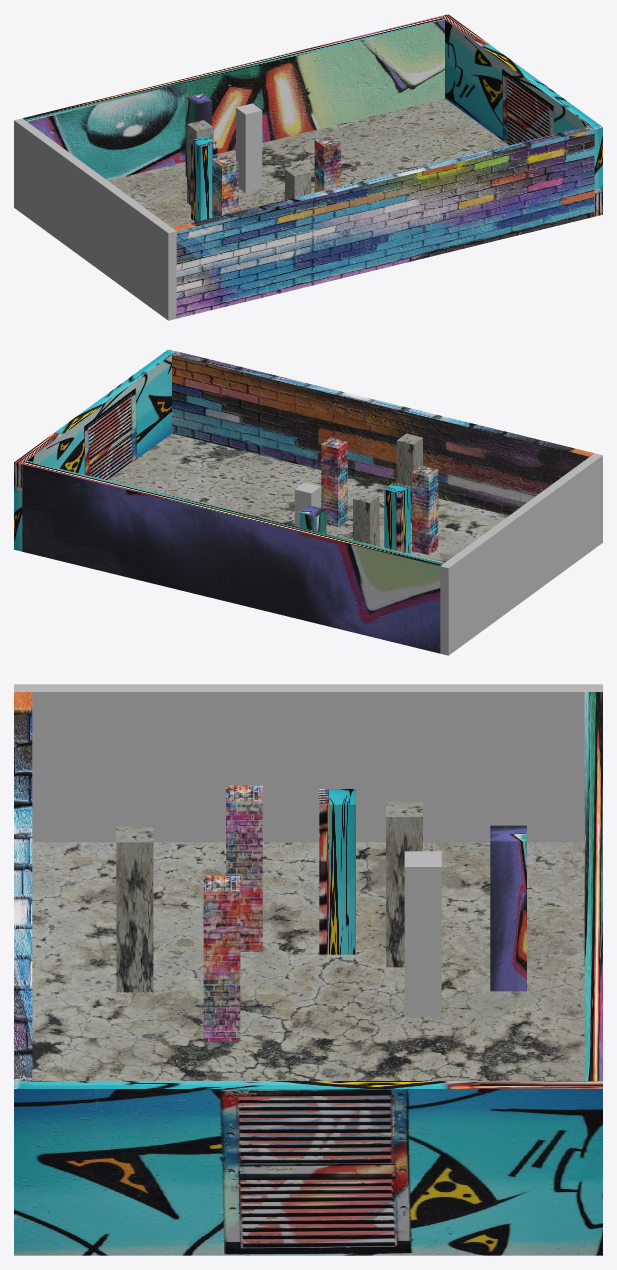
The model's file is arena_v3.dae.
The picture shows the model from 3 angles, top to bottom: view 1: azimuth 30°, elevation 25°; view 2: azimuth 150°, elevation 25°; view 3: azimuth 270°, elevation 25°; orthographic projection. The views are drawn at different scales.
Parts seen in each view (by area): view 1: Cube.002, Cube.001, Cube.004, Cube, Cube.003, Cube.011, Cube.005, Cube.006, Cube.007, Cube.009, Cube.008, Cube.010; view 2: Cube.001, Cube.002, Cube.004, Cube, Cube.003, Cube.006, Cube.007, Cube.005, Cube.010, Cube.008, Cube.011, Cube.009; view 3: Cube.003, Cube, Cube.004, Cube.002, Cube.001, Cube.008, Cube.007, Cube.011, Cube.009, Cube.005, Cube.006, Cube.010.
Boxes of the visible parts, x1,y1,x2,y2 form: Cube.002: [172, 126, 594, 318]; Cube.001: [22, 16, 444, 180]; Cube.004: [14, 118, 176, 320]; Cube: [108, 98, 508, 227]; Cube.003: [440, 14, 602, 216]; Cube.011: [236, 103, 262, 192]; Cube.005: [191, 136, 217, 221]; Cube.006: [212, 155, 238, 217]; Cube.007: [314, 135, 340, 192]; Cube.009: [185, 93, 211, 176]; Cube.008: [285, 165, 311, 199]; Cube.010: [187, 120, 213, 205]; Cube.001: [22, 461, 444, 653]; Cube.002: [172, 351, 594, 515]; Cube.004: [440, 453, 602, 655]; Cube: [108, 433, 508, 562]; Cube.003: [14, 349, 176, 551]; Cube.006: [412, 465, 438, 554]; Cube.007: [321, 437, 347, 526]; Cube.005: [384, 482, 410, 554]; Cube.010: [353, 492, 379, 546]; Cube.008: [396, 433, 422, 522]; Cube.011: [294, 482, 320, 527]; Cube.009: [300, 505, 326, 533]; Cube.003: [14, 1081, 602, 1255]; Cube: [32, 842, 584, 1080]; Cube.004: [14, 684, 602, 842]; Cube.002: [14, 692, 32, 1080]; Cube.001: [584, 692, 602, 1080]; Cube.008: [116, 826, 153, 992]; Cube.007: [203, 875, 240, 1041]; Cube.011: [404, 851, 441, 1016]; Cube.009: [490, 825, 526, 991]; Cube.005: [319, 789, 355, 954]; Cube.006: [226, 785, 262, 951]; Cube.010: [386, 801, 422, 967].
Size of the model in its own units: 26 by 16 by 5.
